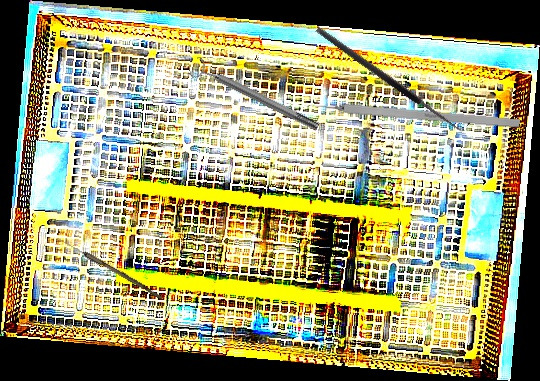Fixation Ring: (188, 54, 323, 139)
Hook Surgical: (314, 19, 471, 136), (303, 99, 521, 129)
Surgical Spoon: (56, 236, 164, 300)
